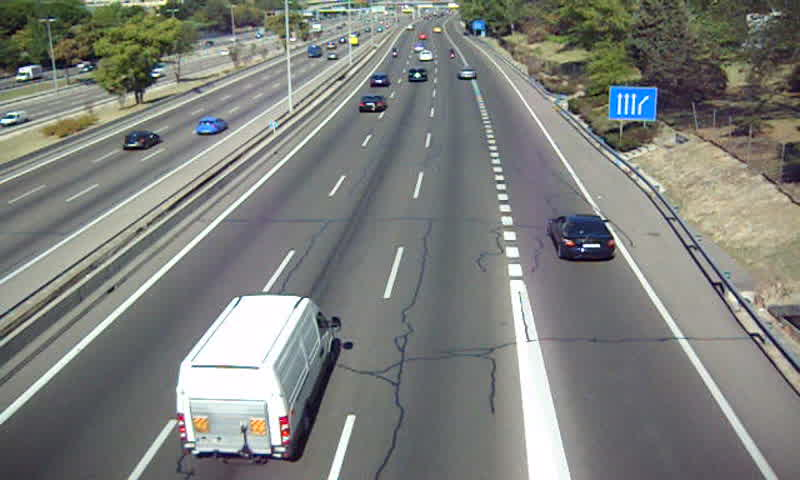car: (548, 215, 614, 260), (358, 94, 385, 112), (406, 68, 427, 84), (368, 73, 390, 88), (456, 66, 477, 81), (417, 49, 436, 60)
van: (176, 296, 340, 462)
